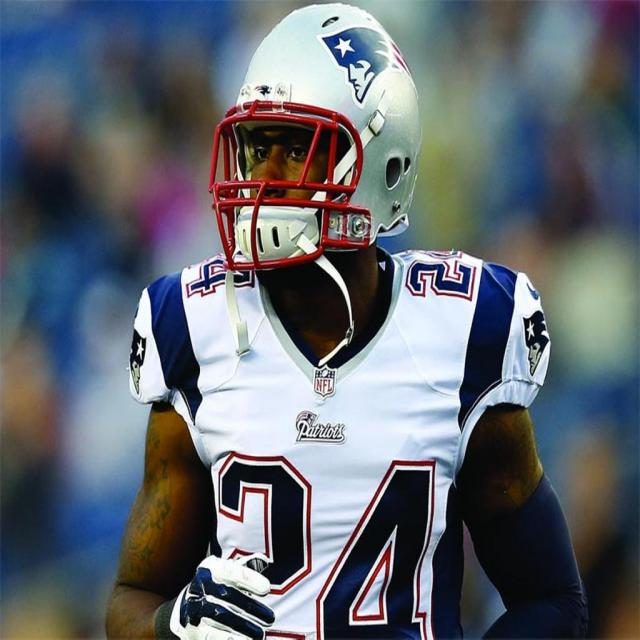nomask: (245, 100, 341, 265)
